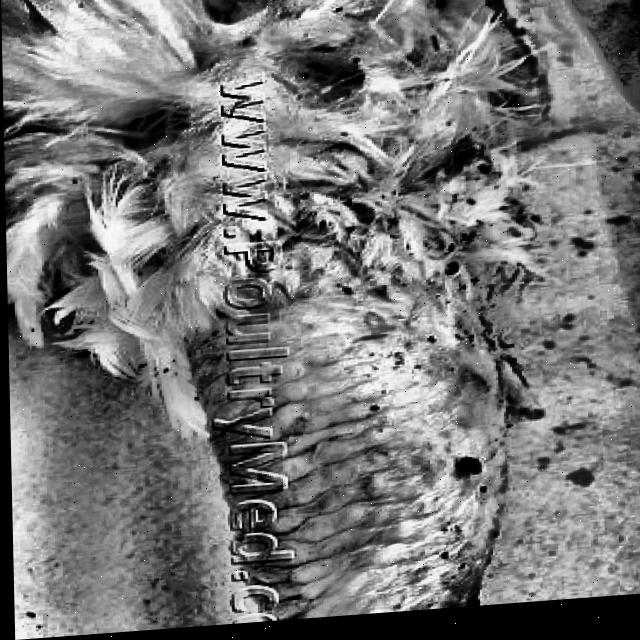Infectios bronchitis: (194, 259, 513, 629)
